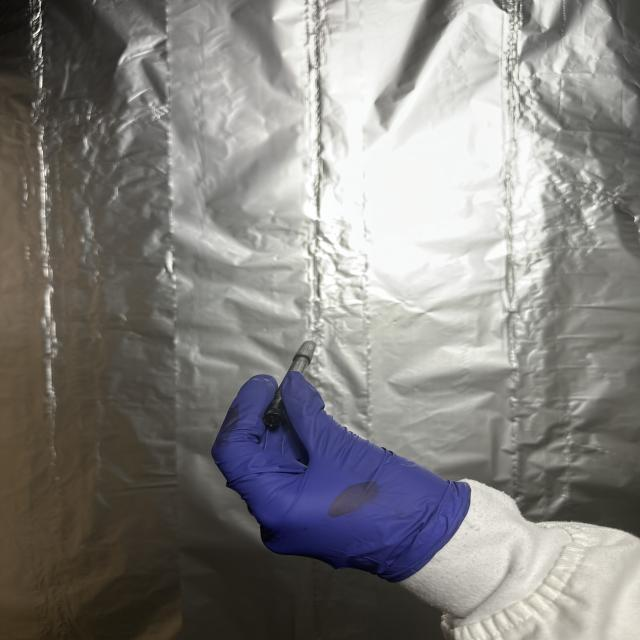gloves_contaminated: (212, 372, 470, 582)
